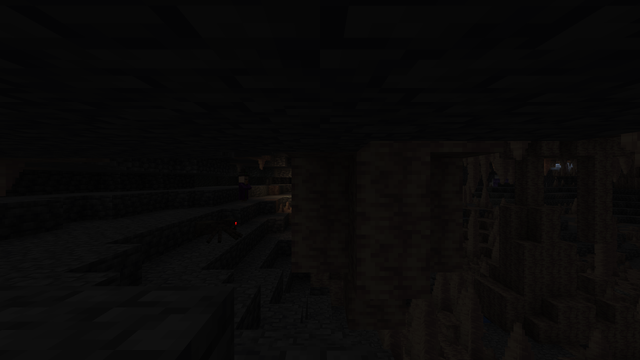araignees: (196, 216, 239, 242)
sorcieres: (238, 175, 248, 202)
